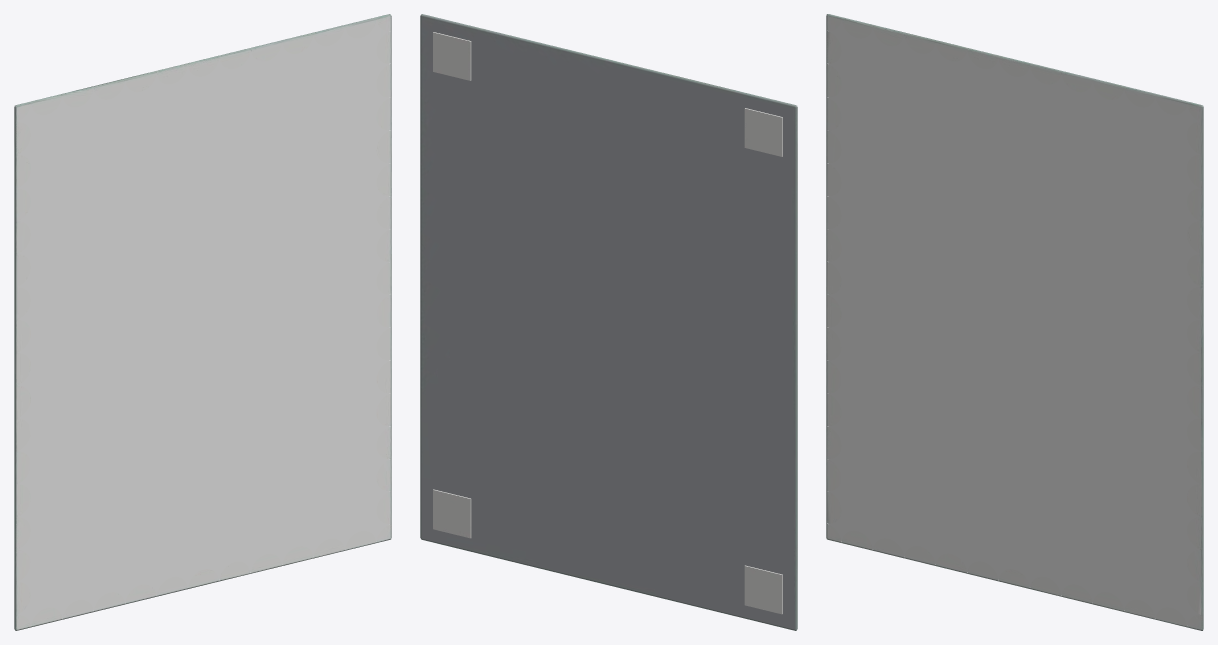
File: rundoxel_lustro_30602132.glb
3 views of the same model, side by side, from view 1: azimuth 30°, elevation 25°; view 2: azimuth 150°, elevation 25°; view 3: azimuth 330°, elevation 25° (orthographic).
Visible parts, largest first — view 1: rundoxel_lustro_30602132; view 2: rundoxel_lustro_30602132; view 3: rundoxel_lustro_30602132.
Boxes of the visible parts, x1,y1,x2,y2 form: rundoxel_lustro_30602132: [14, 14, 391, 630]; rundoxel_lustro_30602132: [420, 14, 797, 630]; rundoxel_lustro_30602132: [826, 14, 1203, 630].
Bounding box in the file's own units: 0.3 × 0.4 × 0.00281.
2 materials, 2 textured.
